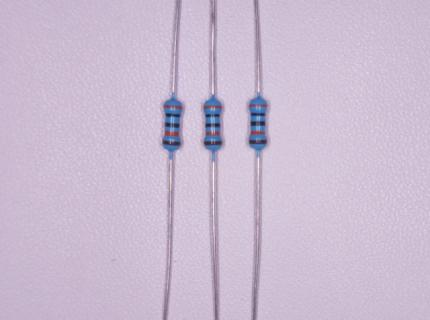Black band: (165, 122, 179, 128), (165, 113, 180, 118), (251, 121, 265, 126), (206, 123, 220, 128), (251, 112, 266, 116), (206, 114, 221, 117)
Brown band: (162, 140, 181, 146), (204, 141, 222, 145), (249, 140, 267, 144)
Orange band: (163, 105, 182, 109), (203, 105, 222, 109), (165, 131, 180, 136), (249, 104, 267, 108), (206, 131, 220, 136), (251, 131, 266, 135)
